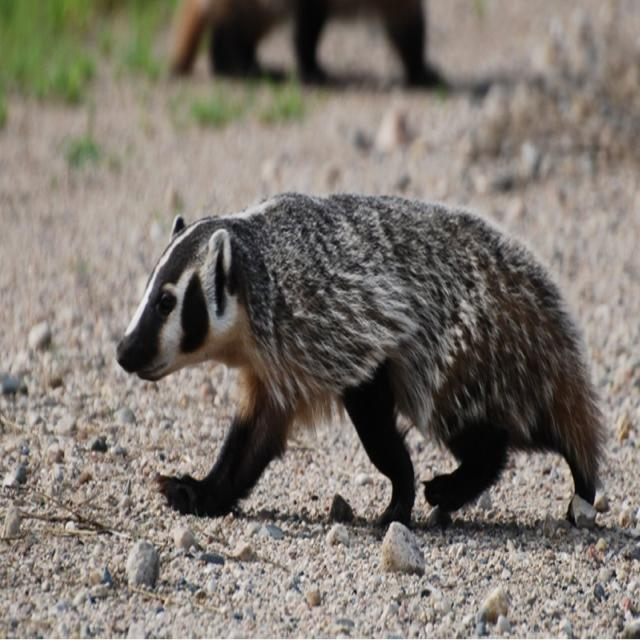Badger: (111, 188, 609, 566)
